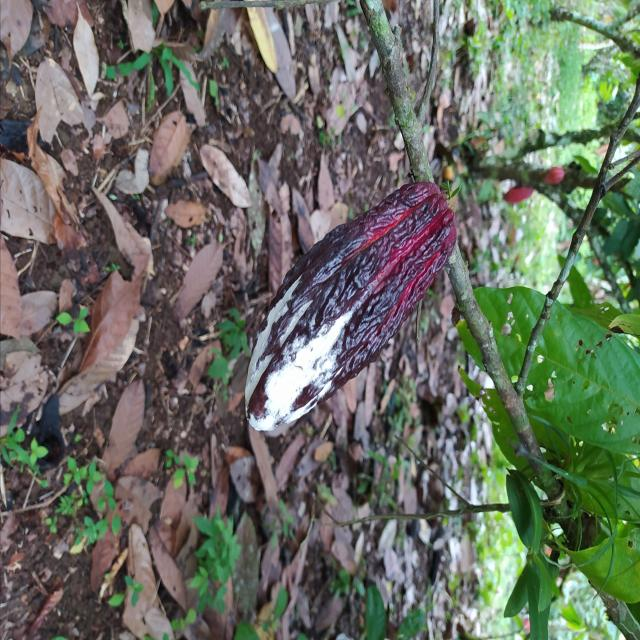Monilia: (244, 184, 458, 433)
